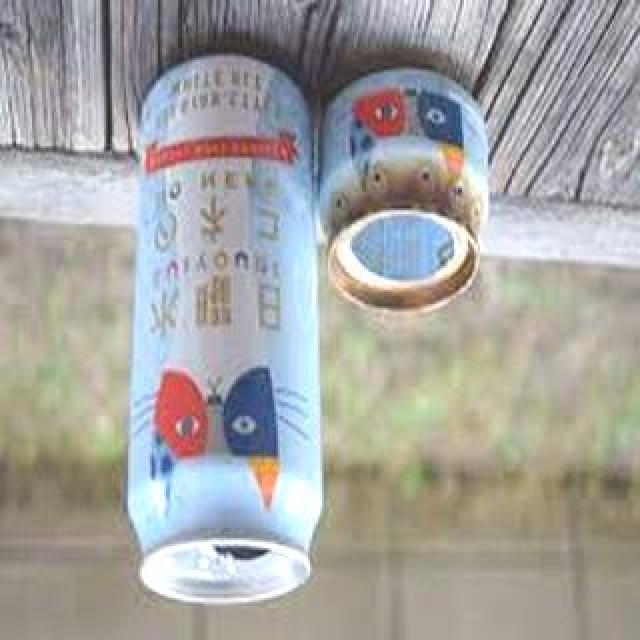Can: (112, 57, 338, 615)
